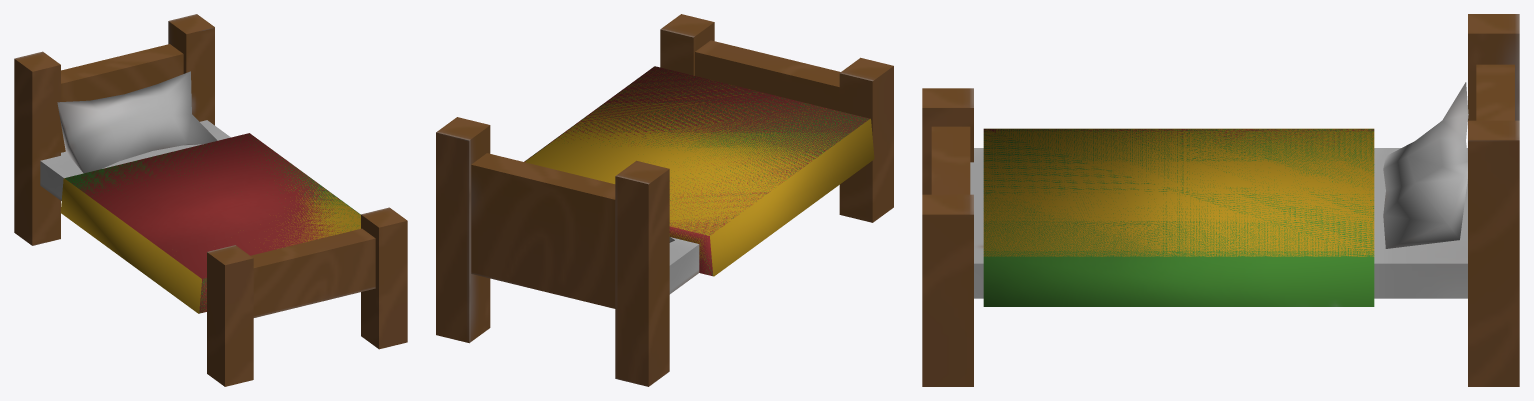
File: Bed.fbx
The picture shows the model from 3 angles, left to right: view 1: azimuth 30°, elevation 25°; view 2: azimuth 150°, elevation 25°; view 3: azimuth 270°, elevation 25°; orthographic projection. The views are drawn at different scales.
Visible parts, largest first — view 1: Bed, Blanket_Red, Blanket_Yellow, Blanket_Green; view 2: Bed, Blanket_Yellow, Blanket_Red, Blanket_Green; view 3: Bed, Blanket_Yellow, Blanket_Green, Blanket_Red.
Boxes of the visible parts, x1,y1,x2,y2 form: Bed: (14, 14, 407, 386); Blanket_Red: (68, 133, 356, 313); Blanket_Yellow: (60, 178, 360, 313); Blanket_Green: (65, 134, 360, 313); Bed: (436, 14, 893, 386); Blanket_Yellow: (525, 67, 874, 276); Blanket_Red: (524, 66, 869, 275); Blanket_Green: (526, 67, 868, 275); Bed: (922, 14, 1519, 386); Blanket_Yellow: (983, 128, 1374, 256); Blanket_Green: (983, 129, 1374, 306); Blanket_Red: (983, 129, 1374, 152).
Size of the model in its own units: 1.05 by 0.9086 by 1.99.
